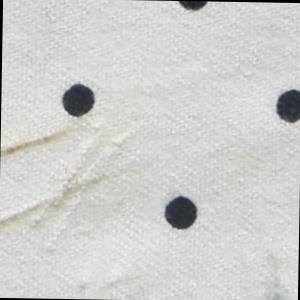Oil Stain: (1, 123, 115, 235)
Stain: (260, 252, 296, 300)
